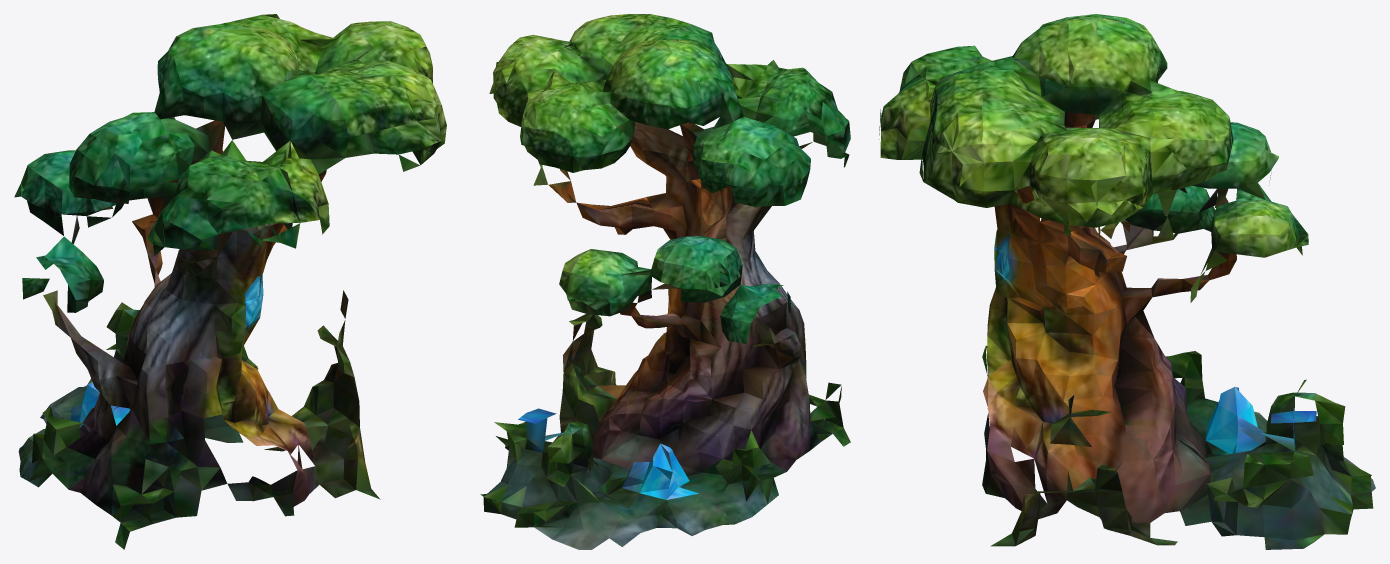
The model's file is arvore1.glb.
3 renders of one model, left to right at view 1: azimuth 30°, elevation 25°; view 2: azimuth 150°, elevation 25°; view 3: azimuth 270°, elevation 25°, orthographic. The views are drawn at different scales.
Visible parts, largest first — view 1: plush; view 2: plush; view 3: plush.
Boxes of the visible parts, left/top/right/bottom form: plush: left=14, top=14, right=446, bottom=549; plush: left=480, top=14, right=850, bottom=549; plush: left=879, top=14, right=1375, bottom=549.
Bounding box in the file's own units: 0.7771 × 0.9686 × 0.9124.
1 material, 1 textured.
